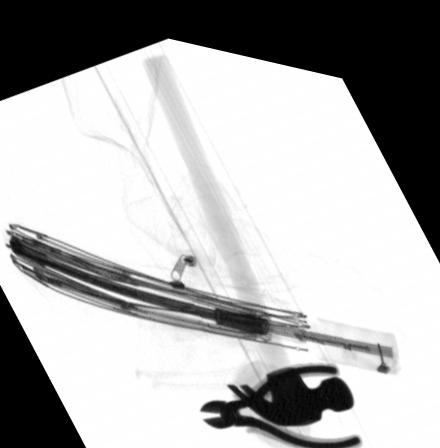Hammer: (140, 47, 355, 412)
Pliers: (199, 346, 362, 436)
